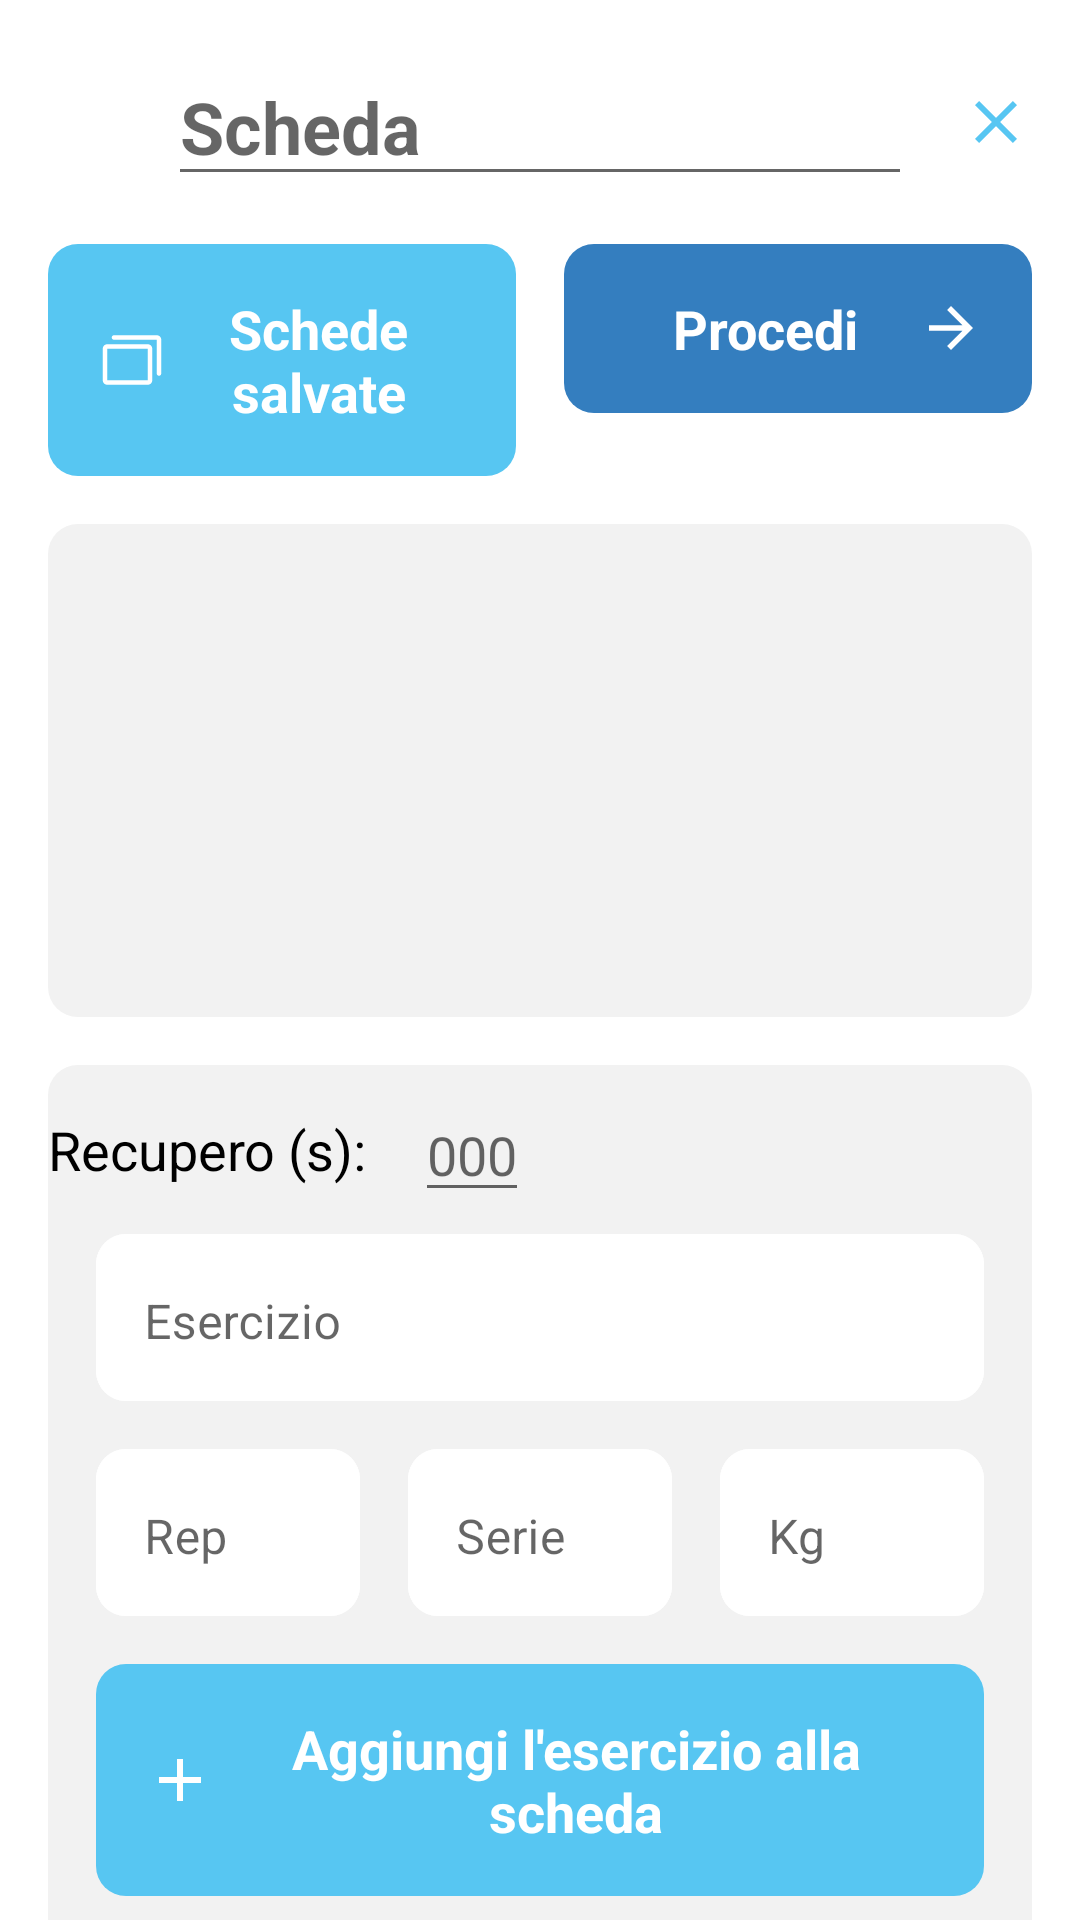

Locate icon controls on the screen. Image size 1080×1920, boxes as (x1=x1, y1=y1, x2=x2, y2=y2).
meal fit close: (x1=975, y1=101, x2=1017, y2=143)
